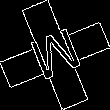M_S: (24, 23, 86, 87)
